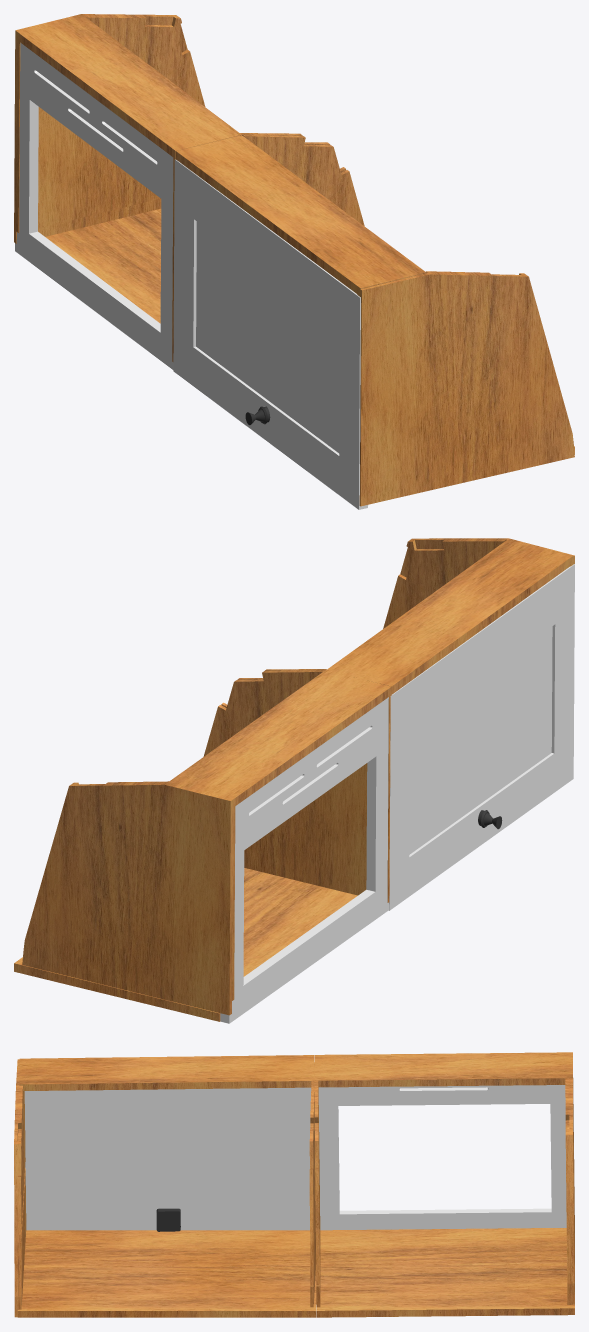
The model's file is wall-cabinet-behind-driver.glb.
3 renders of one model, top to bottom at view 1: azimuth 30°, elevation 25°; view 2: azimuth 150°, elevation 25°; view 3: azimuth 270°, elevation 25°, orthographic. The views are drawn at different scales.
Visible parts, largest first — view 1: Cube; view 2: Cube; view 3: Cube.
Boxes of the visible parts, left/top/right/bottom form: Cube: left=14, top=14, right=574, bottom=509; Cube: left=14, top=538, right=574, bottom=1023; Cube: left=14, top=1052, right=574, bottom=1317.
Size of the model in its own units: 0.4352 by 0.4104 by 1.13.
Materials: 4 (1 with a texture image).
